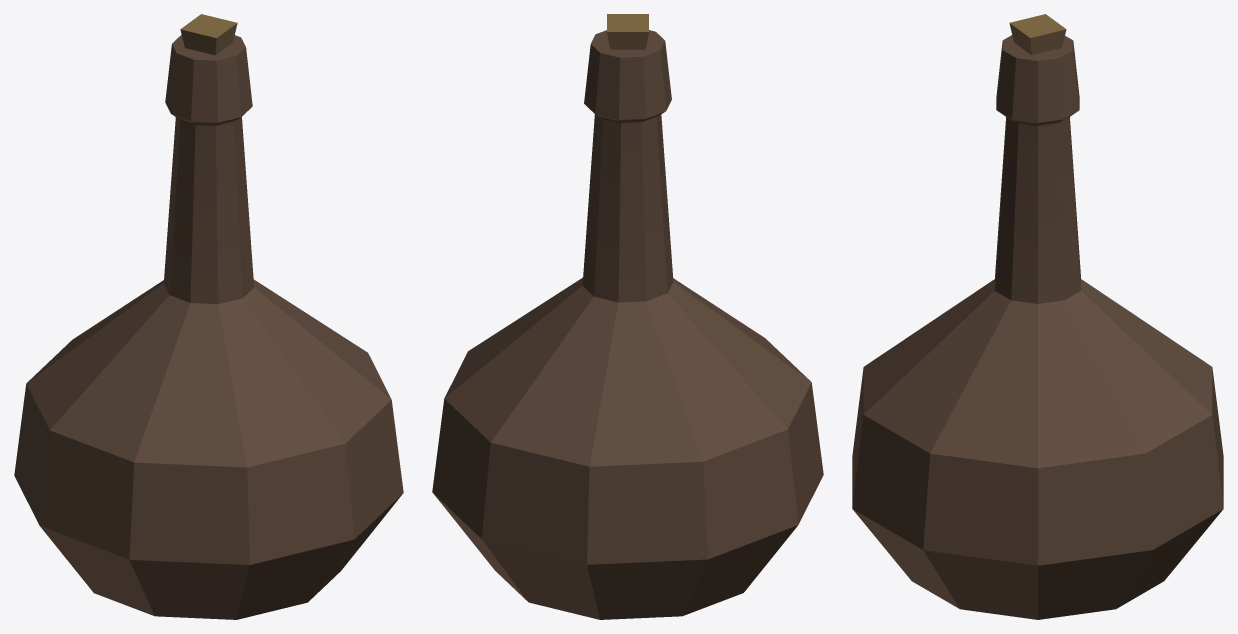
Rendered from Bottle_2.fbx.
3 renders of one model, left to right at view 1: azimuth 30°, elevation 25°; view 2: azimuth 150°, elevation 25°; view 3: azimuth 270°, elevation 25°, orthographic.
Visible parts, largest first — view 1: pCube2436; view 2: pCube2436; view 3: pCube2436.
Boxes of the visible parts, left/top/right/bottom form: pCube2436: left=14, top=14, right=403, bottom=619; pCube2436: left=432, top=14, right=823, bottom=619; pCube2436: left=852, top=14, right=1223, bottom=619.
Size of the model in its own units: 29.45 by 44.73 by 28.01.
